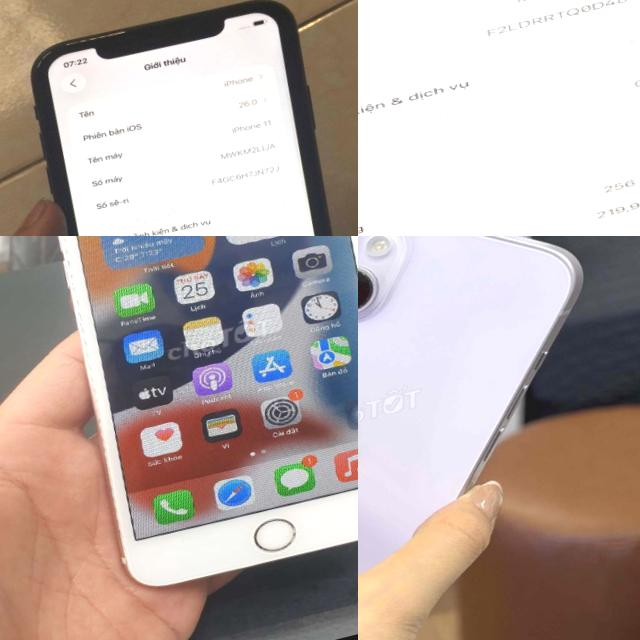gen_11: (30, 0, 330, 236)
gen_12_13: (358, 0, 640, 236)
gen_14: (358, 236, 640, 640)
gen_6: (17, 236, 358, 604)
